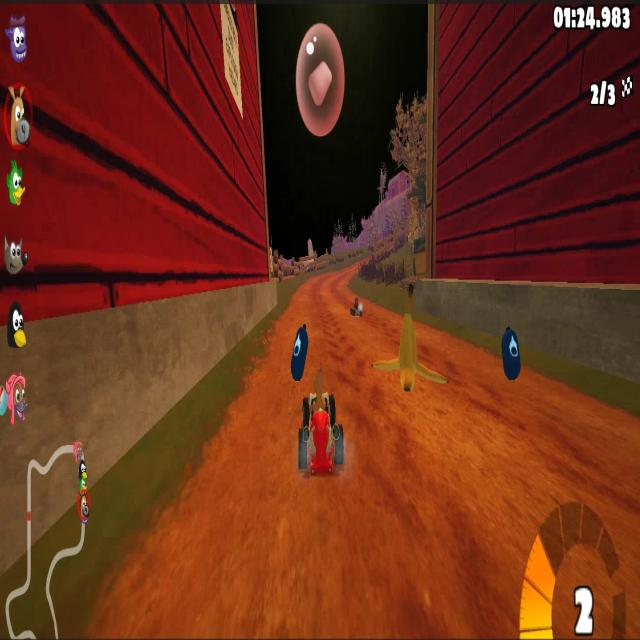enemy_kart: (347, 300, 365, 317)
nitro: (493, 324, 524, 382), (285, 322, 315, 378)
obstacle: (381, 292, 434, 401)
player_kart: (299, 372, 348, 491)
track: (108, 473, 638, 634), (360, 393, 636, 480), (225, 403, 299, 460), (440, 332, 480, 387), (316, 322, 375, 358), (292, 291, 341, 317), (254, 374, 282, 398), (345, 255, 382, 271), (315, 276, 349, 290), (309, 279, 315, 285)
